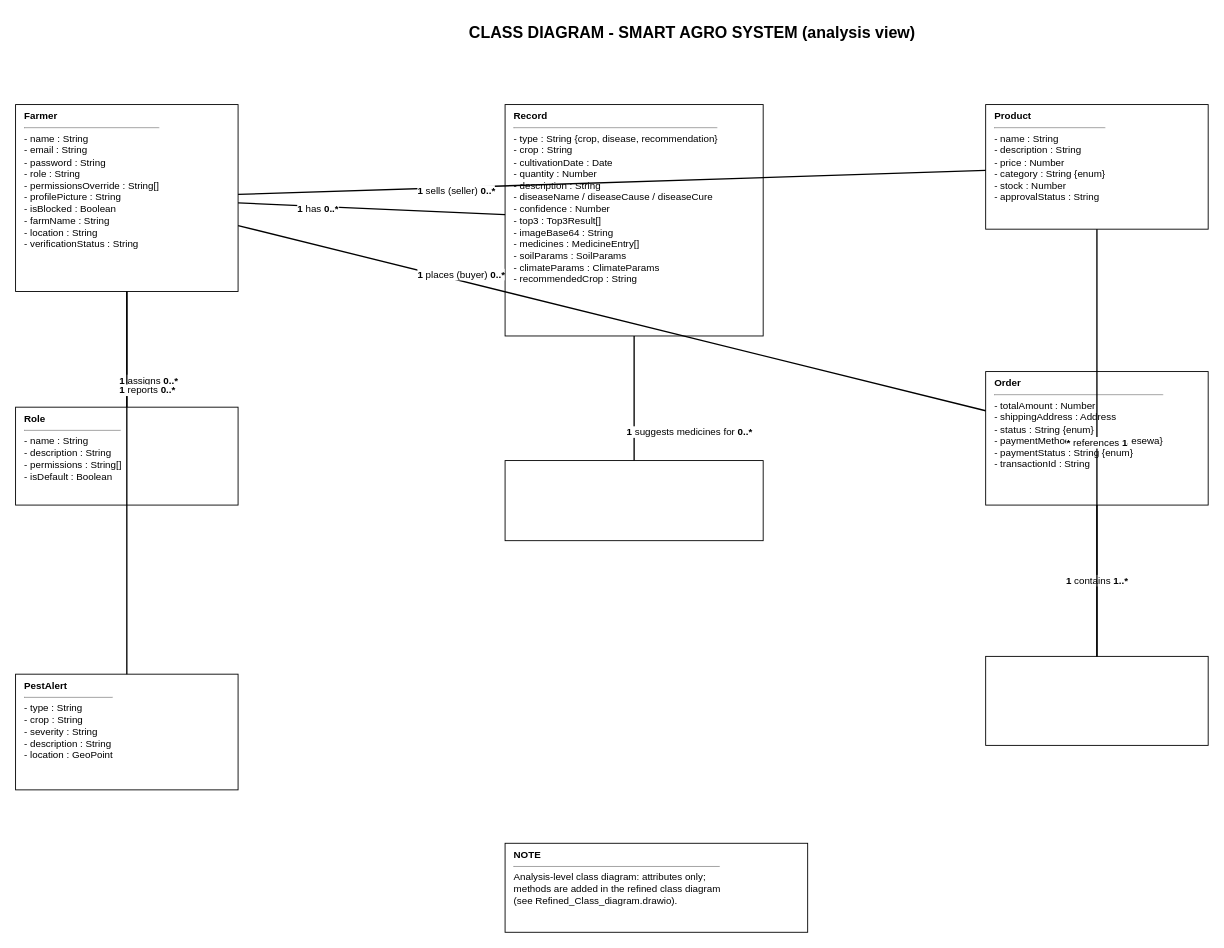
This 1224x948 diagram has some shape labels left out. The shapes that lost their labels are listed below. From the top down, each one's centre as x and y in pixels, then its label:
At point (633, 500): "Medicine - diseaseName : String - medicines : MedicineEntry[]".
At point (1096, 700): "OrderItem - name : String - price : Number - quantity : Number".
